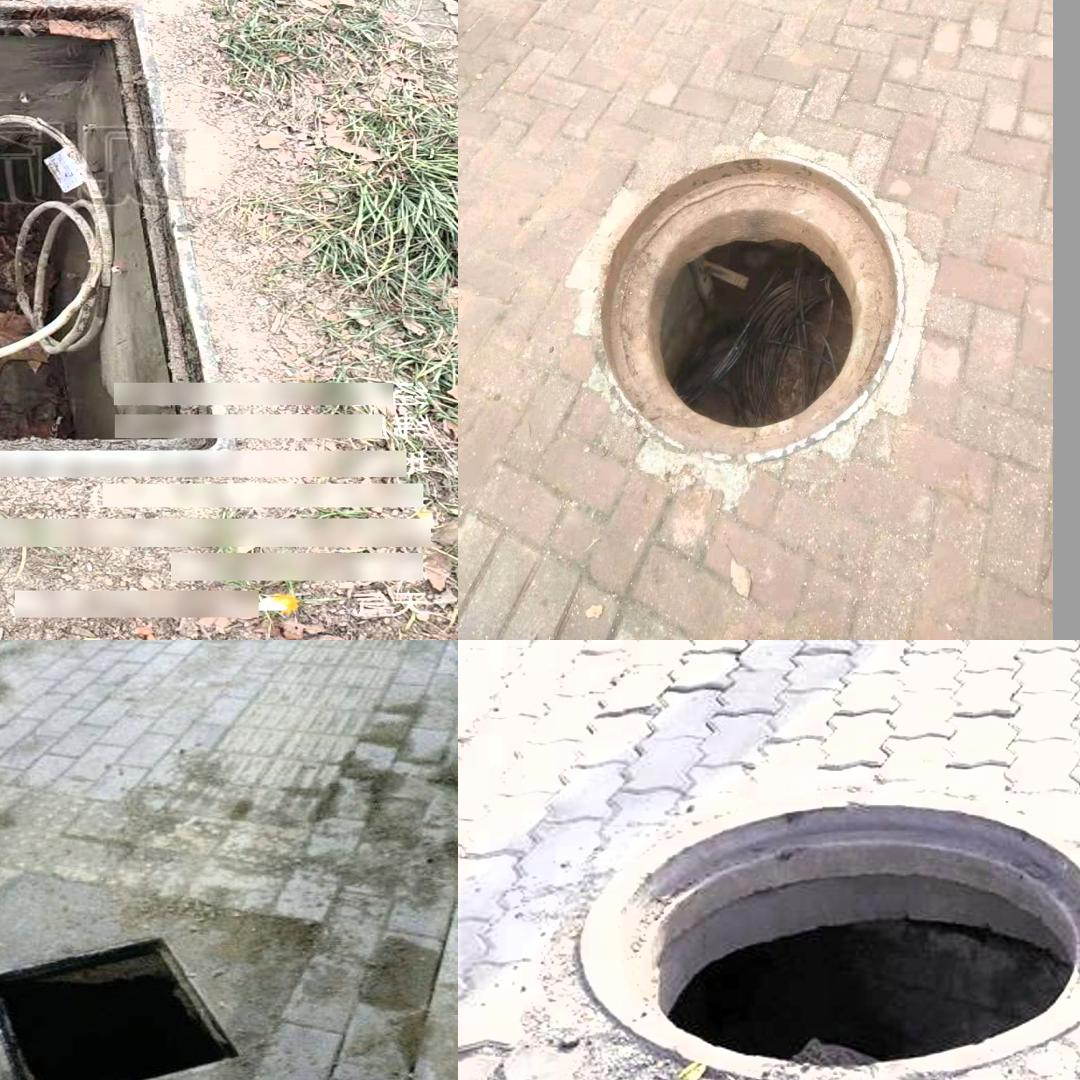lose: (562, 781, 1080, 1080), (0, 0, 230, 470), (593, 152, 906, 465), (0, 936, 319, 1080)
